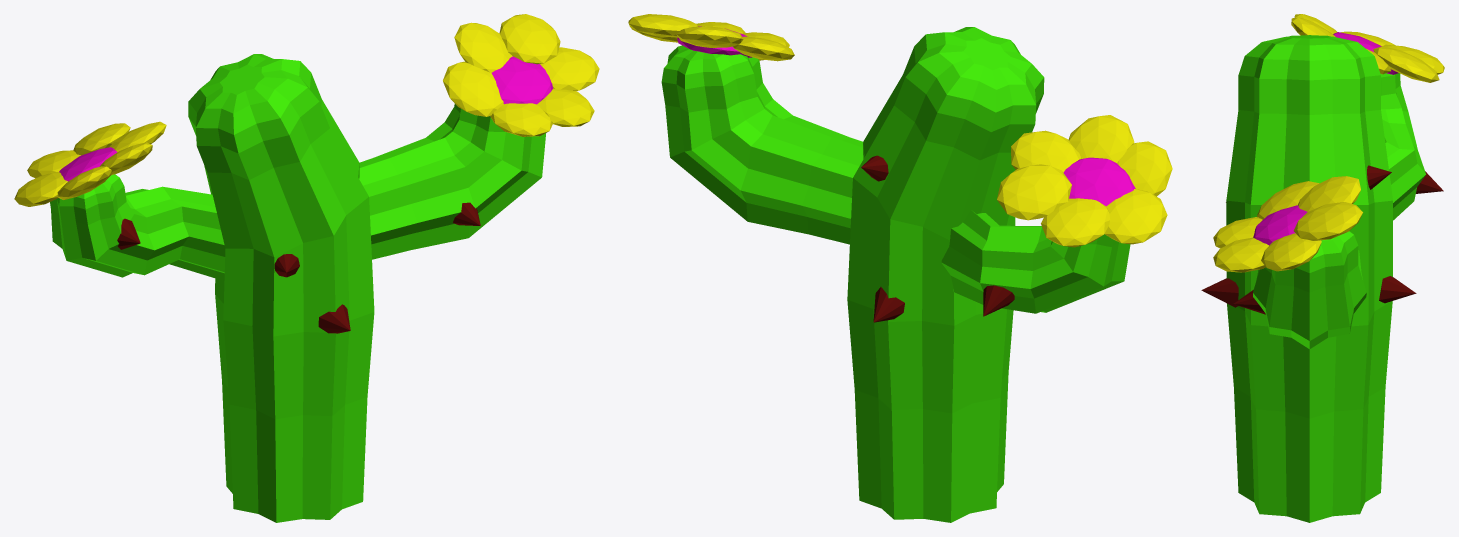
The model's file is cactus2.fbx.
3 renders of one model, left to right at view 1: azimuth 30°, elevation 25°; view 2: azimuth 150°, elevation 25°; view 3: azimuth 270°, elevation 25°, orthographic. The views are drawn at different scales.
Parts seen in each view (by area): view 1: Cylinder.001, Cylinder, Cylinder.002, Icosphere.005, Icosphere.001, Icosphere, Icosphere.003, Icosphere.002, Icosphere.006, Icosphere.004, Icosphere.008, Icosphere.012 (+6 smaller); view 2: Cylinder.001, Cylinder, Cylinder.002, Icosphere.012, Icosphere.008, Icosphere.010, Icosphere.013, Icosphere.009, Icosphere.011, Icosphere.007, Icosphere.003, Icosphere.001 (+3 smaller); view 3: Cylinder.001, Cylinder, Cylinder.002, Icosphere.001, Icosphere.002, Icosphere.004, Icosphere.003, Icosphere.012, Icosphere, Icosphere.005, Icosphere.006, Cone (+7 smaller).
Part boxes in pixels (x1=…): Cylinder.001: x1=188, y1=54, x2=374, y2=522; Cylinder: x1=359, y1=104, x2=545, y2=259; Cylinder.002: x1=50, y1=174, x2=225, y2=280; Icosphere.005: x1=443, y1=61, x2=503, y2=116; Icosphere.001: x1=499, y1=14, x2=560, y2=64; Icosphere: x1=491, y1=56, x2=553, y2=104; Icosphere.003: x1=454, y1=22, x2=512, y2=72; Icosphere.002: x1=540, y1=47, x2=599, y2=90; Icosphere.006: x1=490, y1=103, x2=552, y2=136; Icosphere.004: x1=537, y1=88, x2=594, y2=126; Icosphere.008: x1=14, y1=172, x2=67, y2=206; Icosphere.012: x1=73, y1=123, x2=130, y2=155; Cylinder.001: x1=847, y1=27, x2=1044, y2=522; Cylinder: x1=661, y1=45, x2=863, y2=244; Cylinder.002: x1=941, y1=210, x2=1130, y2=313; Icosphere.012: x1=997, y1=164, x2=1071, y2=220; Icosphere.008: x1=1104, y1=189, x2=1167, y2=244; Icosphere.010: x1=1041, y1=198, x2=1110, y2=247; Icosphere.013: x1=1063, y1=157, x2=1135, y2=206; Icosphere.009: x1=1068, y1=115, x2=1134, y2=162; Icosphere.011: x1=1011, y1=130, x2=1081, y2=172; Icosphere.007: x1=1117, y1=141, x2=1172, y2=196; Icosphere.003: x1=676, y1=26, x2=743, y2=47; Icosphere.001: x1=628, y1=14, x2=697, y2=37; Cylinder.001: x1=1226, y1=35, x2=1392, y2=522; Cylinder: x1=1253, y1=231, x2=1366, y2=349; Cylinder.002: x1=1380, y1=73, x2=1425, y2=220; Icosphere.001: x1=1293, y1=202, x2=1362, y2=240; Icosphere.002: x1=1261, y1=233, x2=1321, y2=271; Icosphere.004: x1=1213, y1=237, x2=1268, y2=272; Icosphere.003: x1=1298, y1=176, x2=1360, y2=211; Icosphere.012: x1=1373, y1=46, x2=1439, y2=82; Icosphere: x1=1253, y1=205, x2=1307, y2=245; Icosphere.005: x1=1257, y1=181, x2=1319, y2=219; Icosphere.006: x1=1213, y1=217, x2=1262, y2=248; Cone: x1=1201, y1=278, x2=1238, y2=307.
Size of the model in its own units: 877 by 683 by 342.
